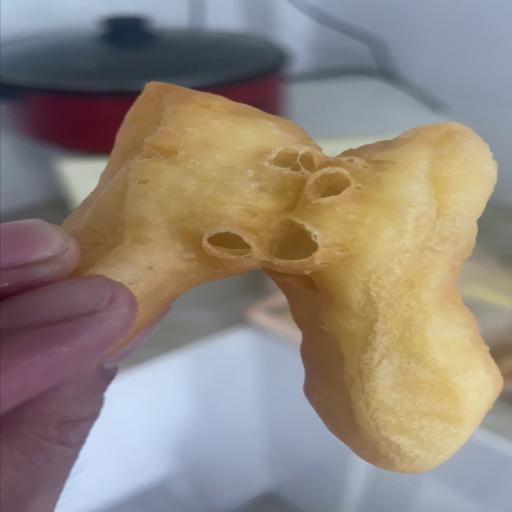street_golden_defect: (62, 83, 501, 474)
